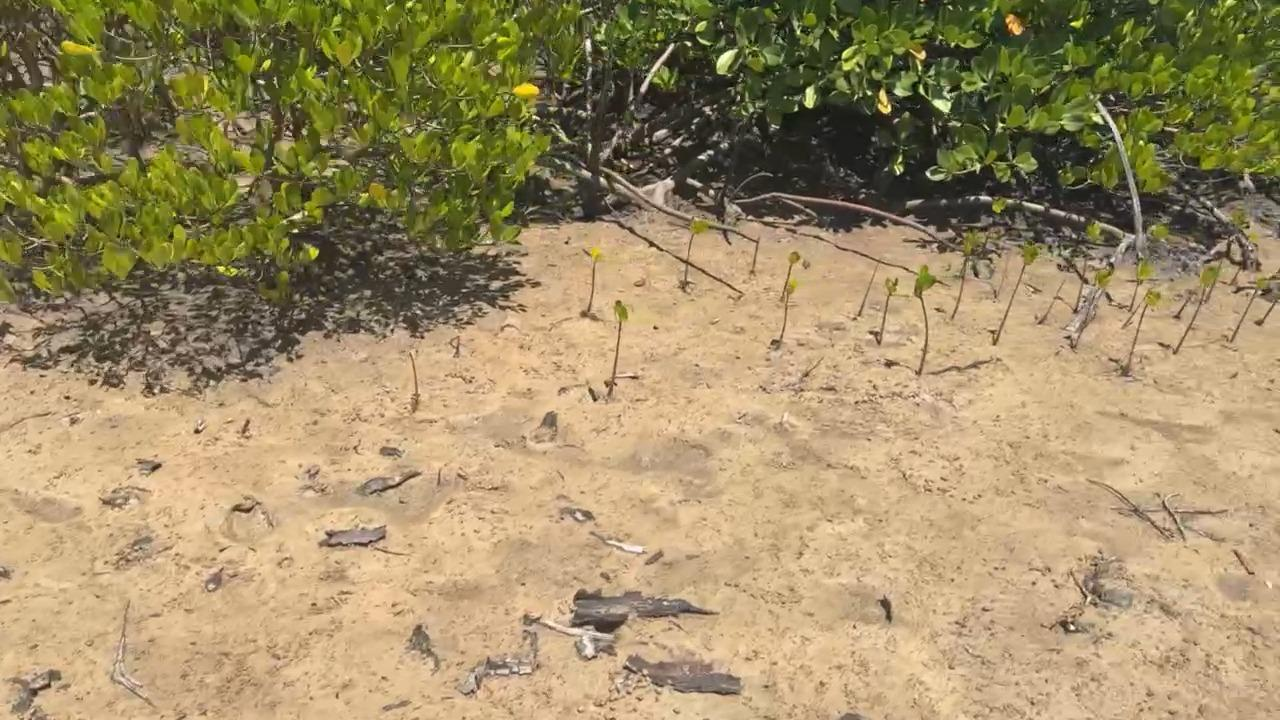Tree: (993, 239, 1043, 343), (1173, 264, 1216, 356), (1122, 288, 1162, 374), (1075, 268, 1114, 350), (912, 264, 938, 375), (950, 233, 981, 321), (1230, 275, 1269, 343), (1074, 221, 1103, 310), (680, 218, 712, 287), (607, 301, 628, 397), (858, 256, 884, 317), (877, 276, 899, 345), (1126, 261, 1153, 311), (1121, 287, 1151, 330), (585, 246, 604, 312), (780, 280, 799, 342), (1036, 285, 1064, 326), (781, 252, 800, 298), (1205, 259, 1222, 302), (409, 353, 420, 408), (1174, 293, 1195, 317), (1260, 297, 1280, 321), (752, 236, 762, 273)
